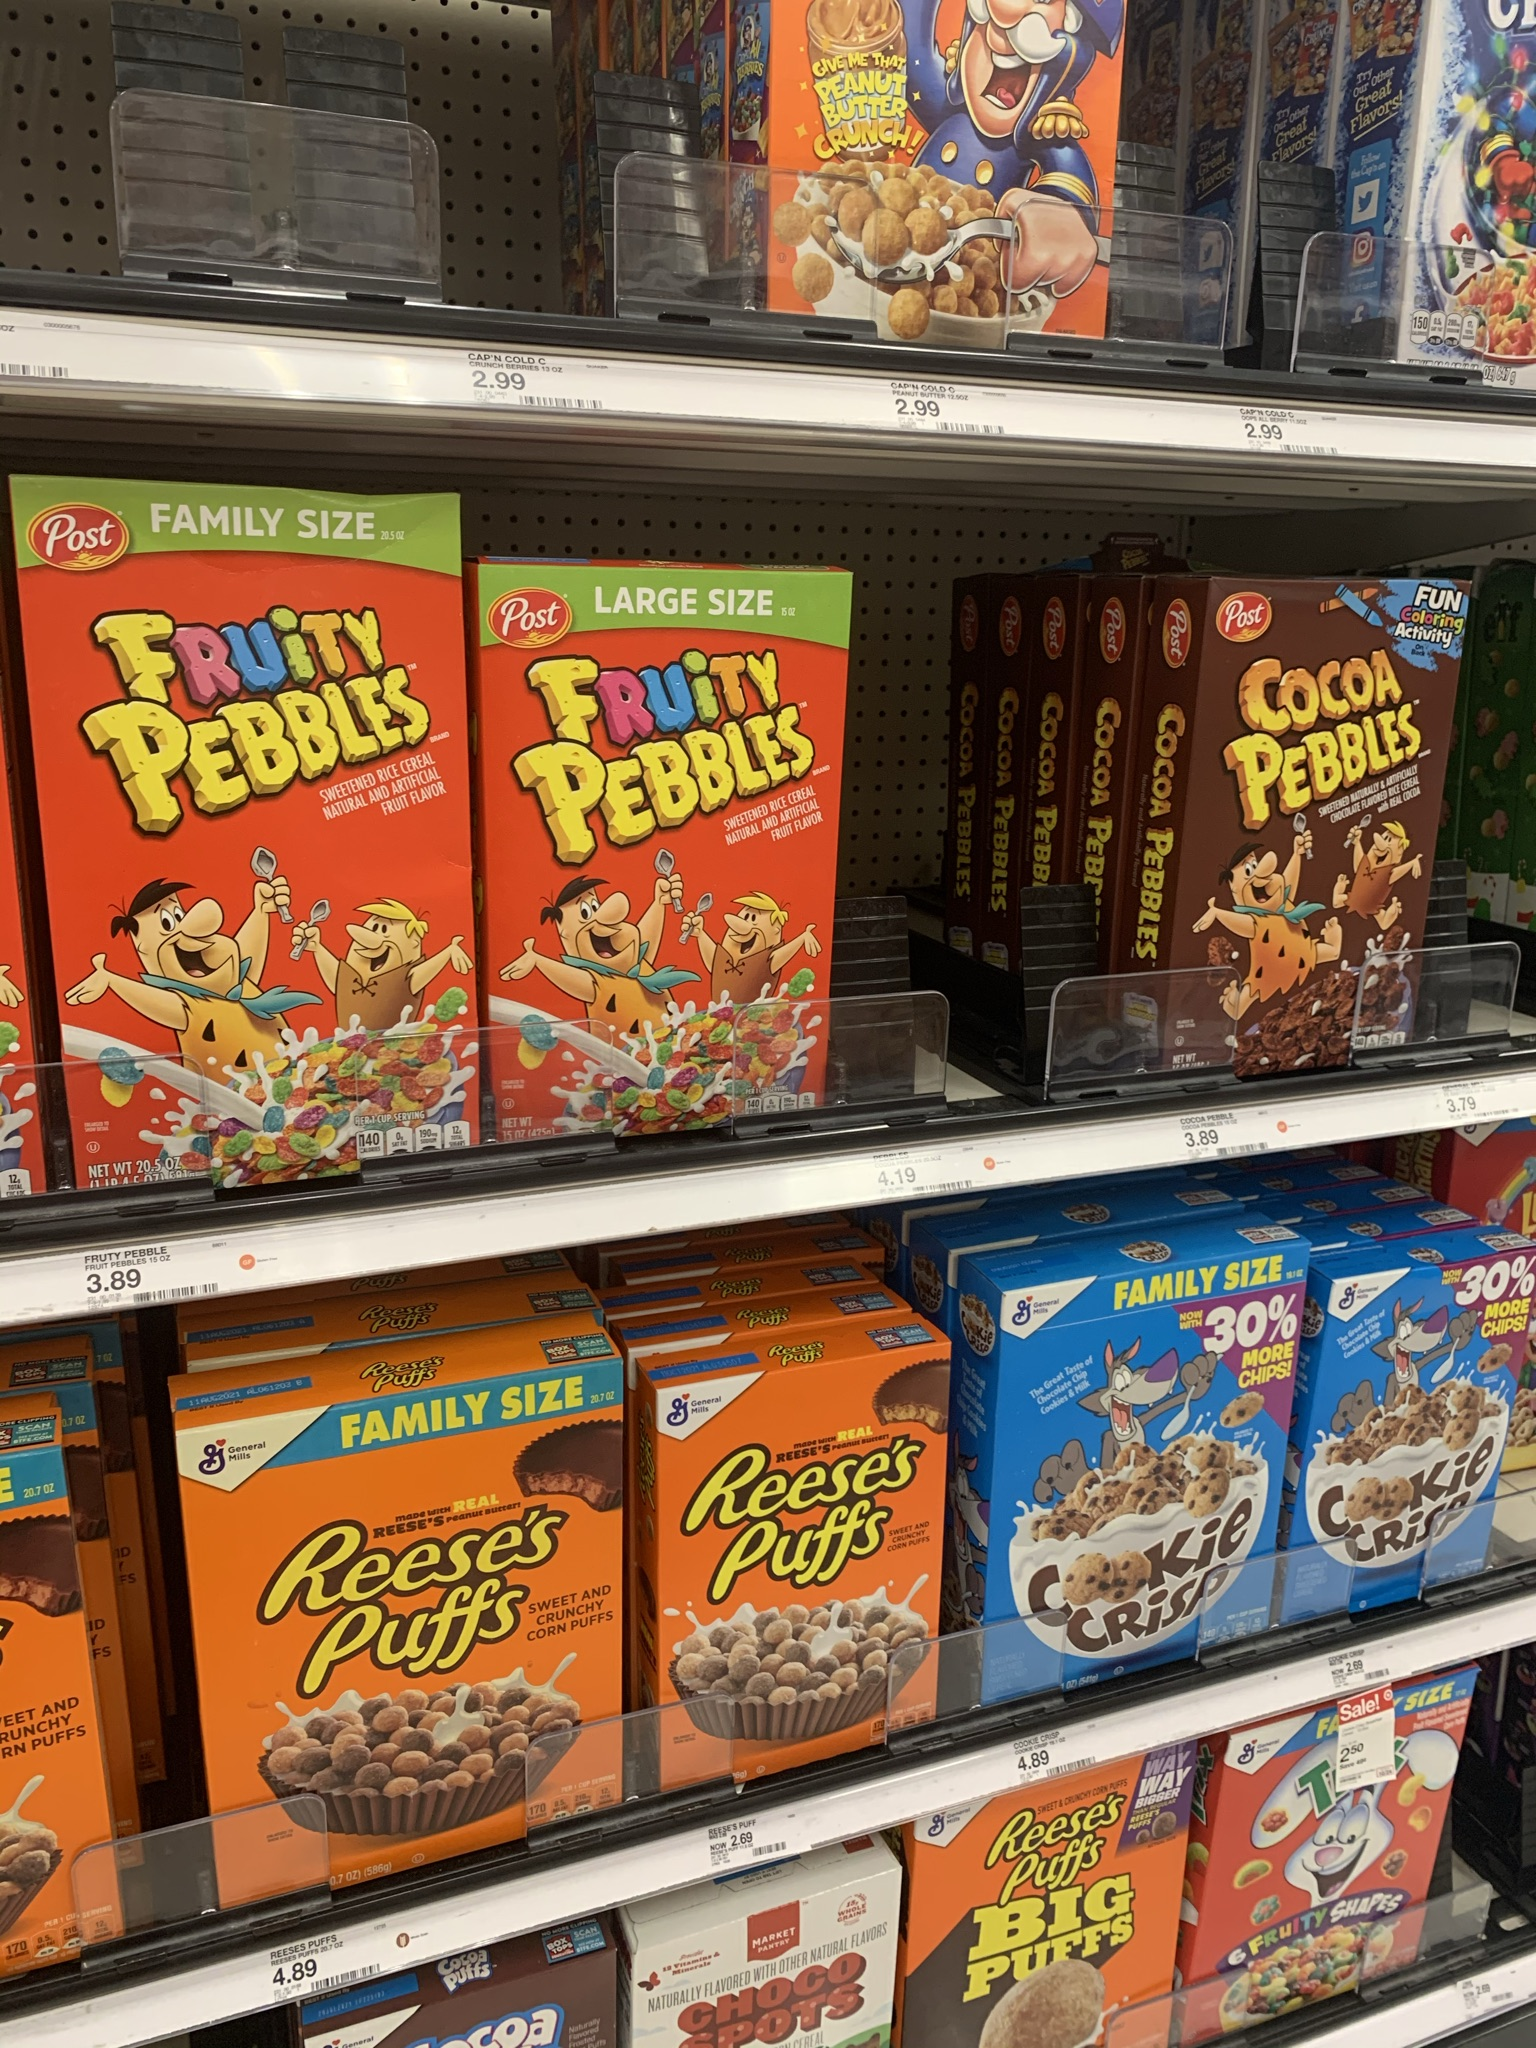Cereal cocoa pebbles: (1217, 593, 1447, 1050)
Cereal fruity pebbles: (18, 484, 492, 1129), (499, 566, 842, 1106)
Cookies crisp: (1020, 1297, 1275, 1669), (1325, 1292, 1518, 1580)
Resse's puff's: (177, 1424, 628, 1814), (674, 1384, 929, 1743), (937, 1825, 1189, 2048)
